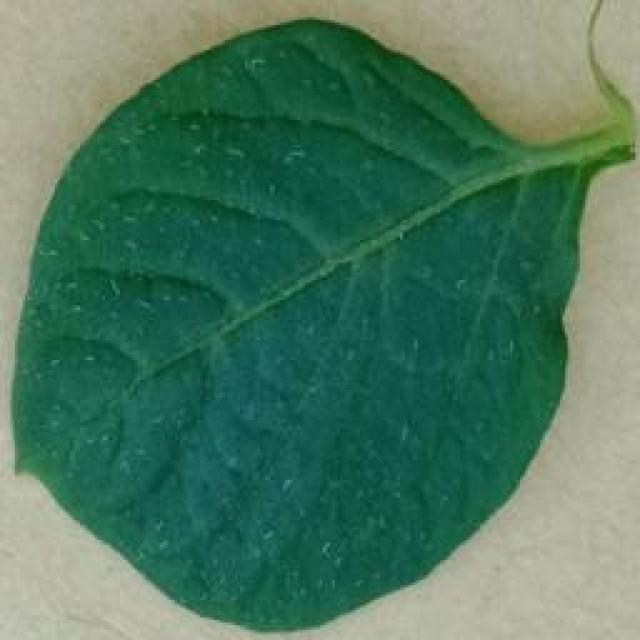Potato_Healthy: (9, 8, 633, 634)
